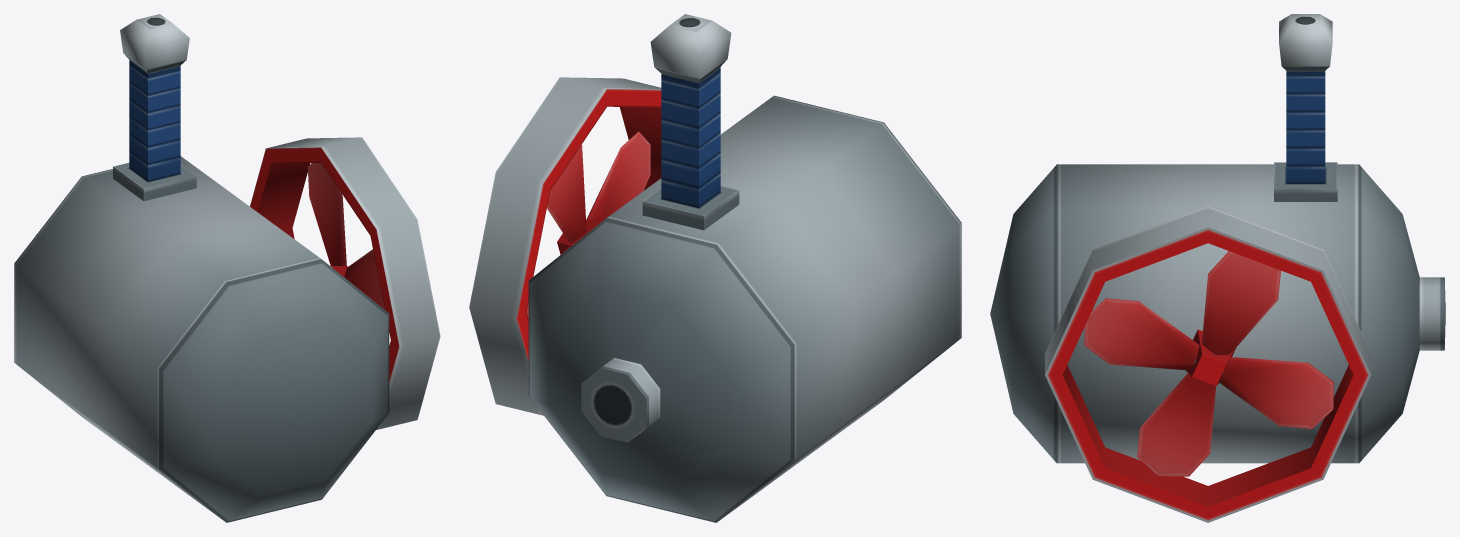
Rendered from item_smoke.FBX.
The picture shows the model from 3 angles, left to right: view 1: azimuth 30°, elevation 25°; view 2: azimuth 150°, elevation 25°; view 3: azimuth 270°, elevation 25°; orthographic projection. The views are drawn at different scales.
Visible parts, largest first — view 1: item_smoke, item_smoke_wing, item_smoke_bar; view 2: item_smoke, item_smoke_wing, item_smoke_bar; view 3: item_smoke, item_smoke_wing, item_smoke_bar.
Boxes of the visible parts, x1,y1,x2,y2 form: item_smoke: (14,156,389,522); item_smoke_wing: (250,137,440,429); item_smoke_bar: (120,14,189,181); item_smoke: (528,95,961,522); item_smoke_wing: (469,77,661,415); item_smoke_bar: (650,14,731,208); item_smoke: (990,162,1445,463); item_smoke_wing: (1045,206,1371,522); item_smoke_bar: (1279,14,1332,183).
Size of the model in its own units: 0.2214 by 0.3104 by 0.3042.
